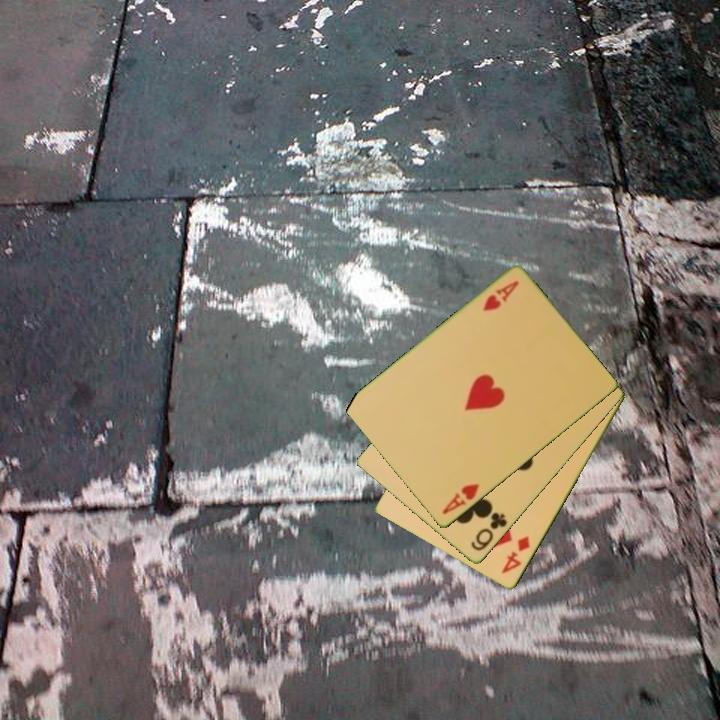4d: (498, 533, 533, 577)
6c: (467, 509, 510, 554)
Ah: (439, 480, 482, 518), (479, 277, 522, 314)
